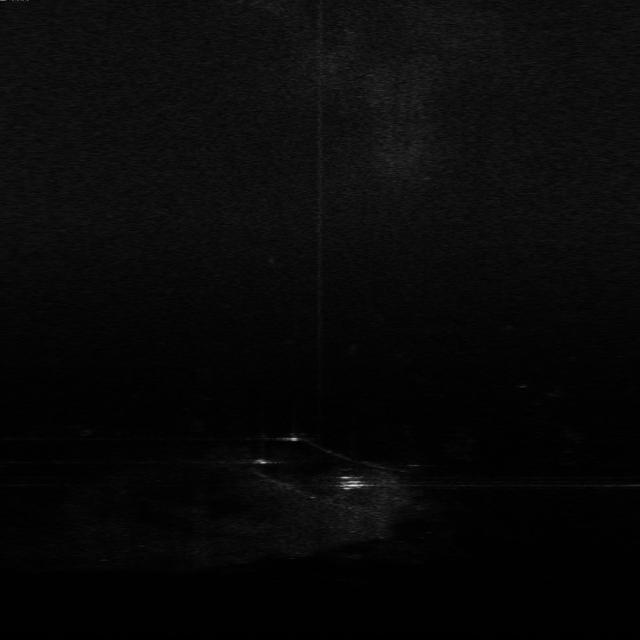rov: (334, 471, 366, 492)
